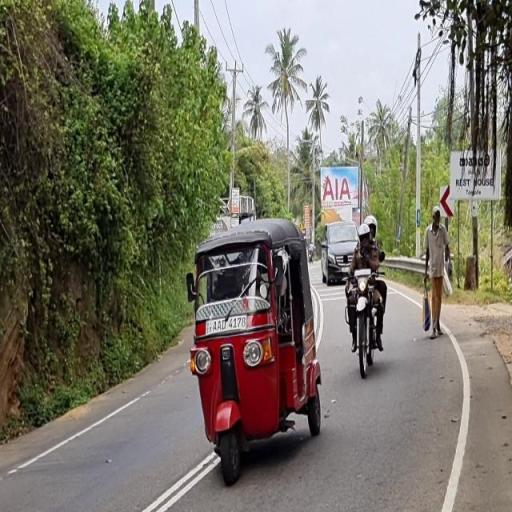double_white_line: (141, 453, 218, 510)
